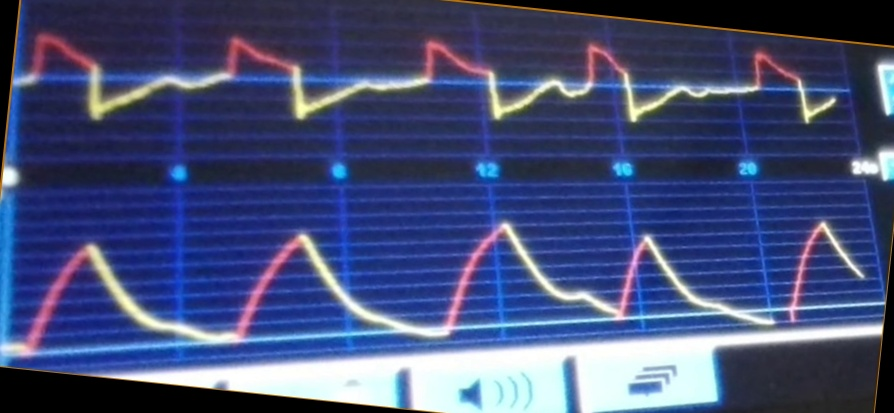Ineffective_effort Flow: (17, 25, 835, 138)
Ineffective_effort Volume: (18, 218, 859, 348)
